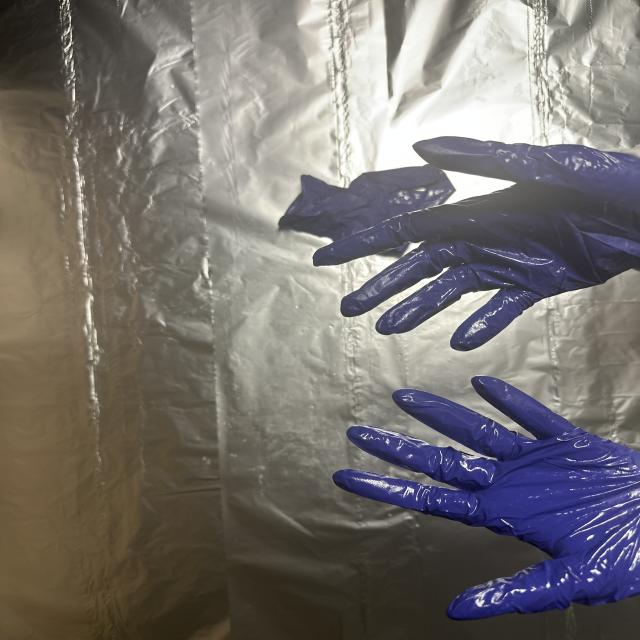gloves_contaminated: (333, 376, 640, 620), (313, 137, 640, 351)
